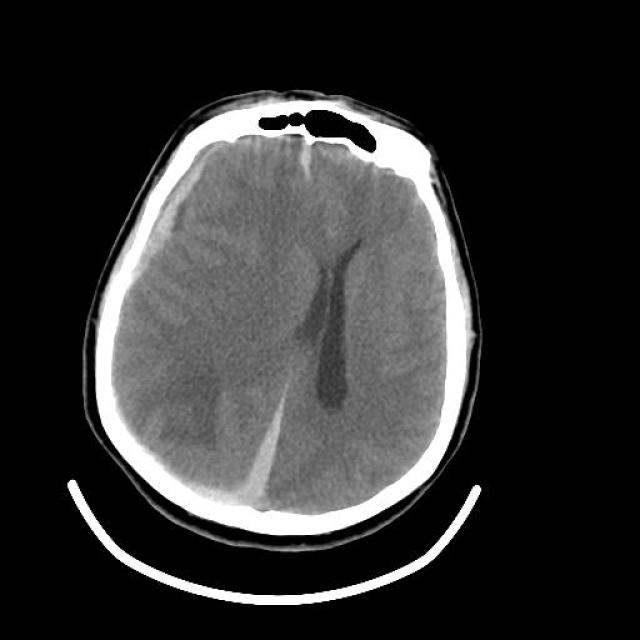Subdural: (100, 132, 235, 318), (226, 384, 305, 531)
